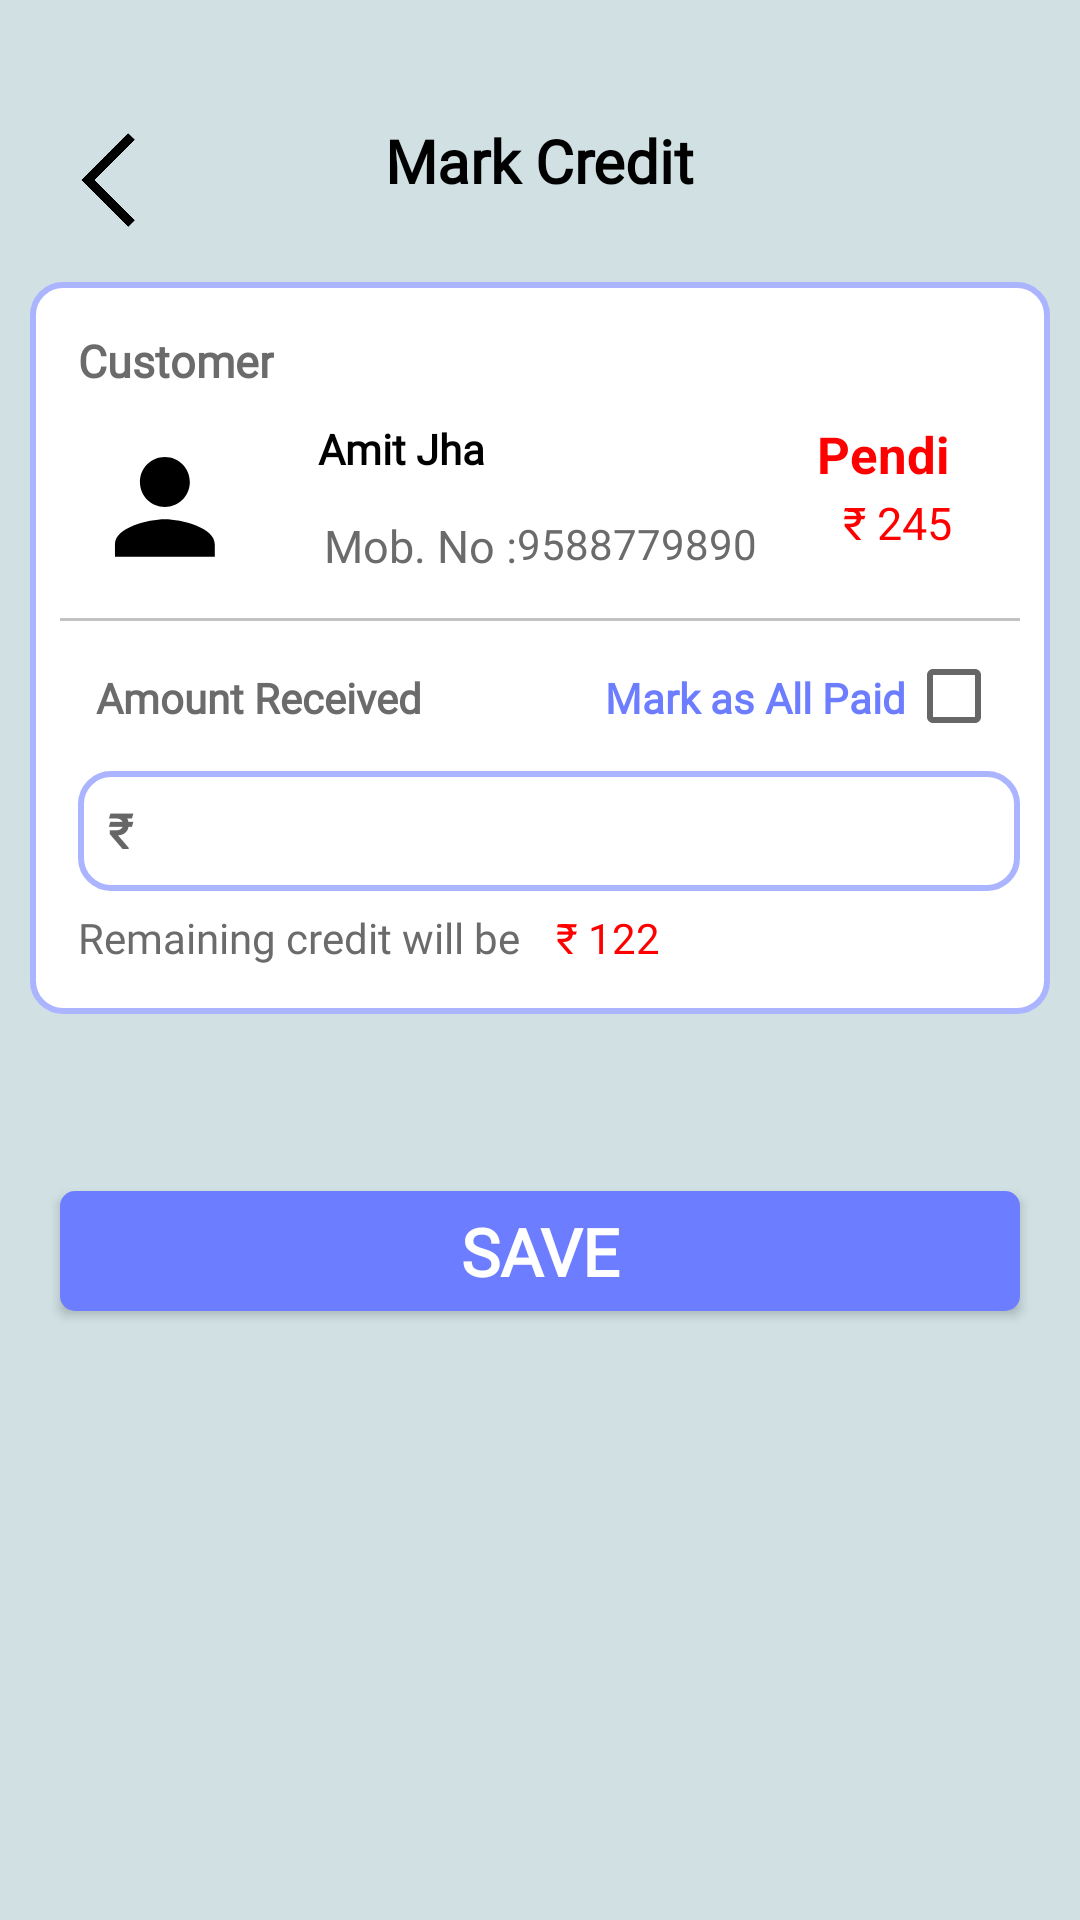

Locate icon controls on the screen. Image size 1080x1920, boxes as rect(x1, y1, x2, y2).
back: rect(82, 133, 135, 227)
